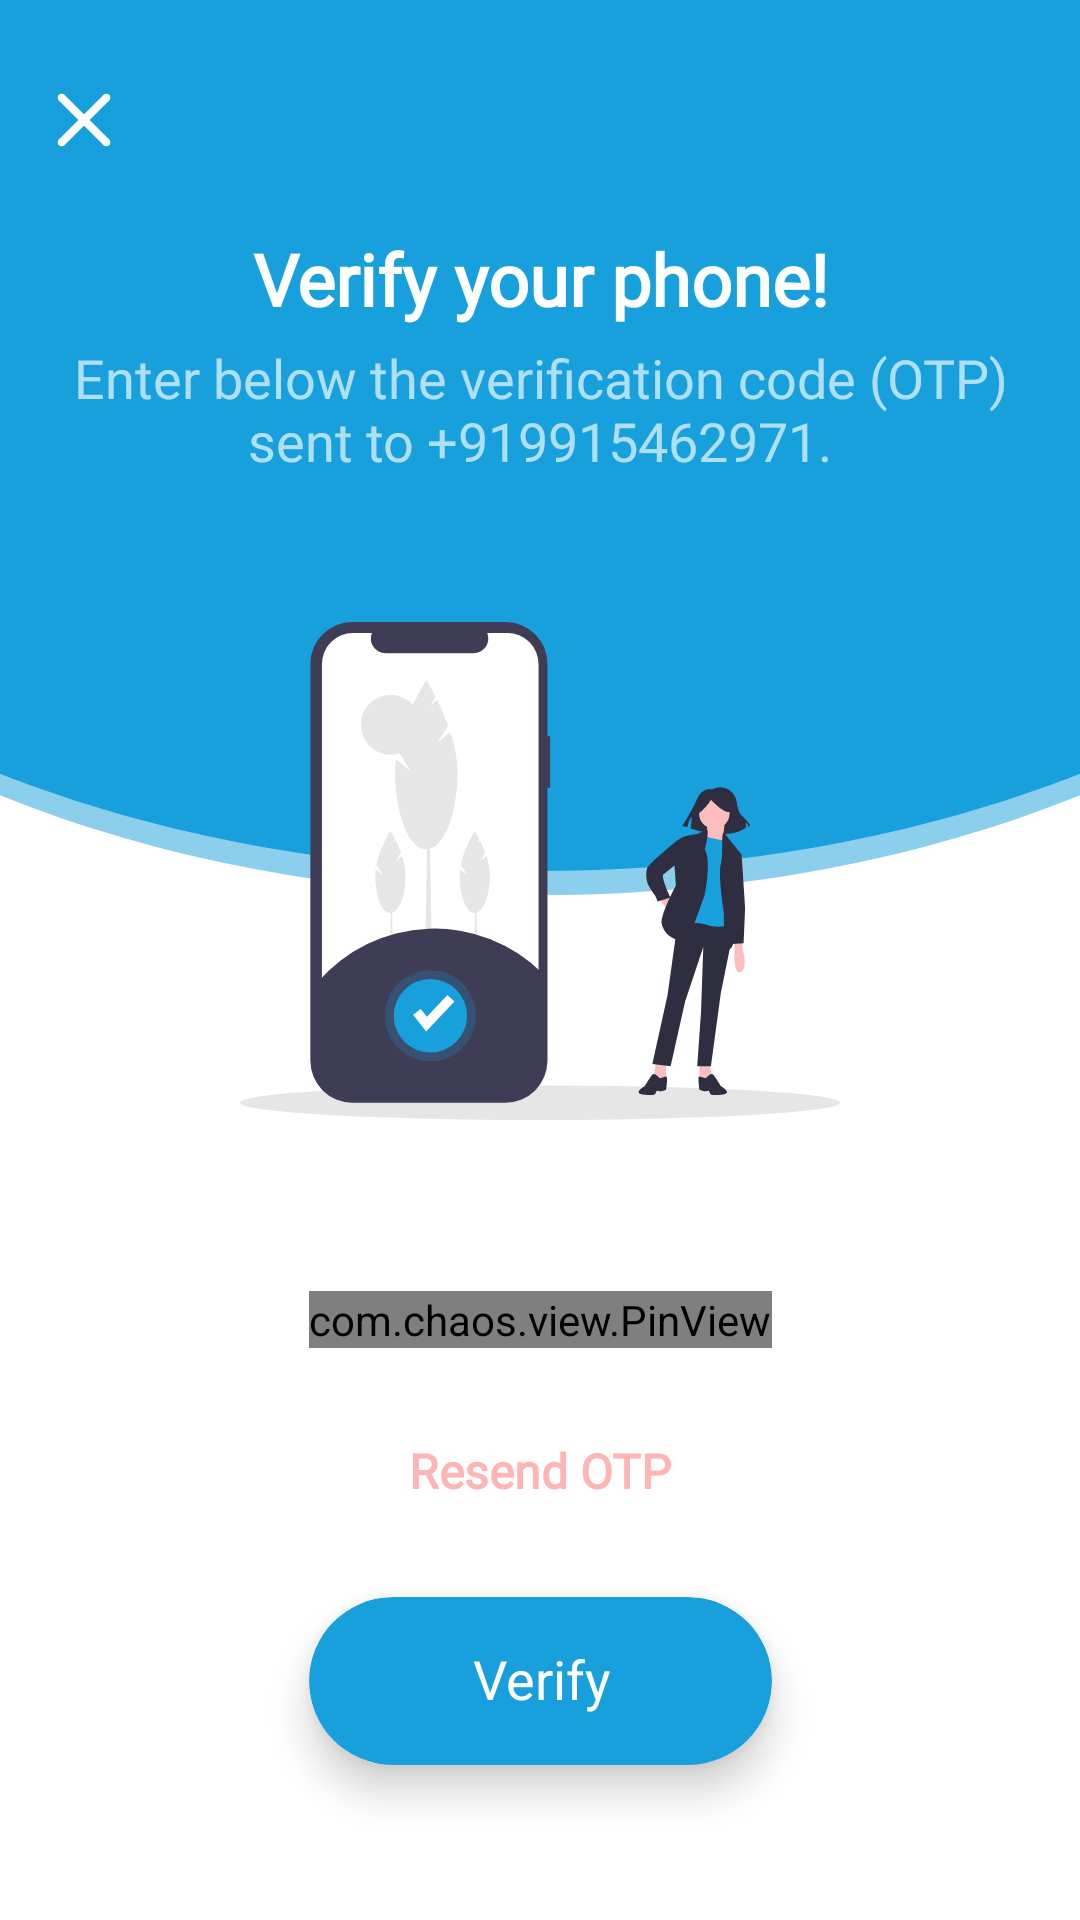

Icon click points for this 1080×1920 phone screenshot, format (x=x, y=y):
close: (x=84, y=120)
